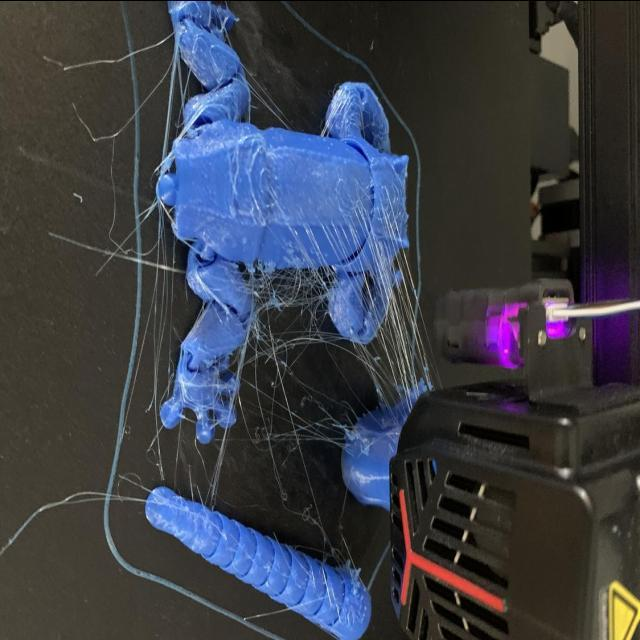Stringing: (252, 286, 331, 550), (321, 184, 421, 326), (200, 374, 245, 506), (237, 324, 345, 375), (150, 217, 178, 369), (372, 316, 418, 396), (258, 262, 316, 318), (257, 416, 345, 448), (322, 90, 345, 130), (178, 107, 204, 131)
